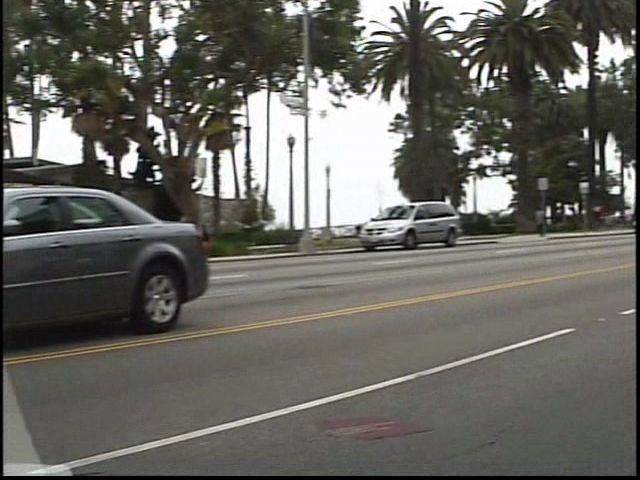person: (540, 200, 561, 240)
